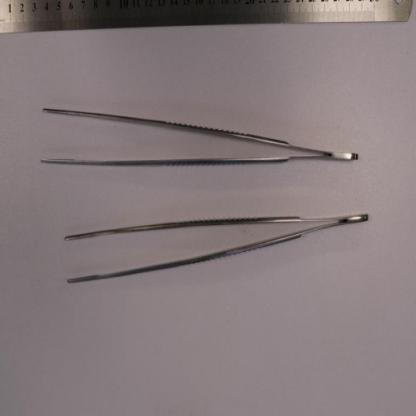DeBakey Dissector: (65, 214, 369, 285), (41, 109, 358, 166)
